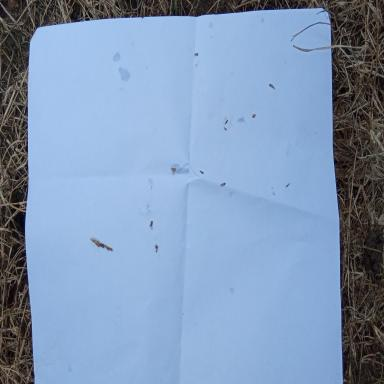pbw: (170, 168, 176, 175), (269, 83, 274, 90), (220, 182, 226, 186), (194, 53, 198, 56)
